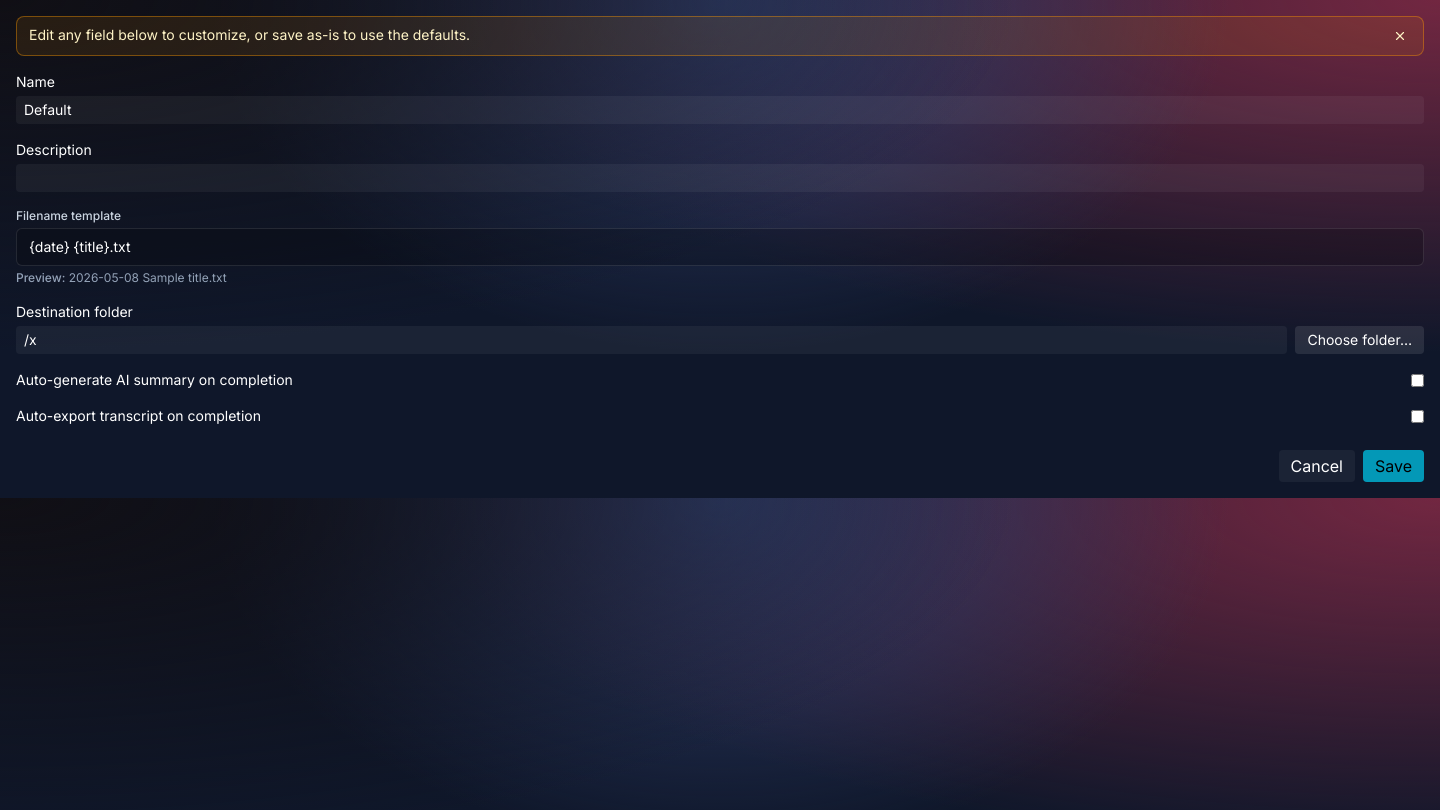
Test: EmptyProfileForm — AC2 inline help banner › clicking dismiss removes the banner and persists the dismissal flag
What coordinates should you click on to do the following:
click the button named "Dismiss help banner"
I would click on:
 (1400, 36)
Its box is [1389,25,1411,47].
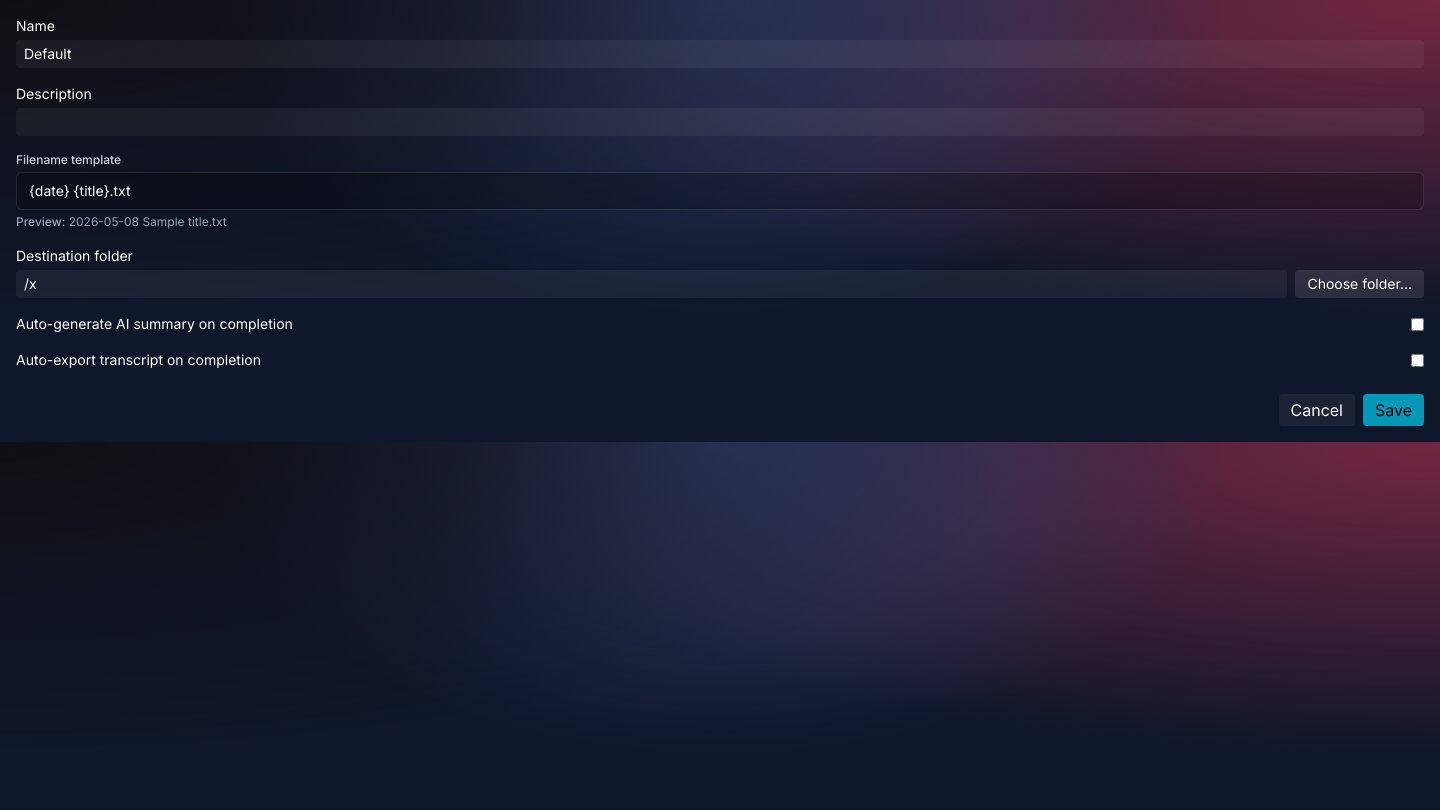
expect the text "Edit any field below to customize, or save as-is to use the defaults." is gone: met
